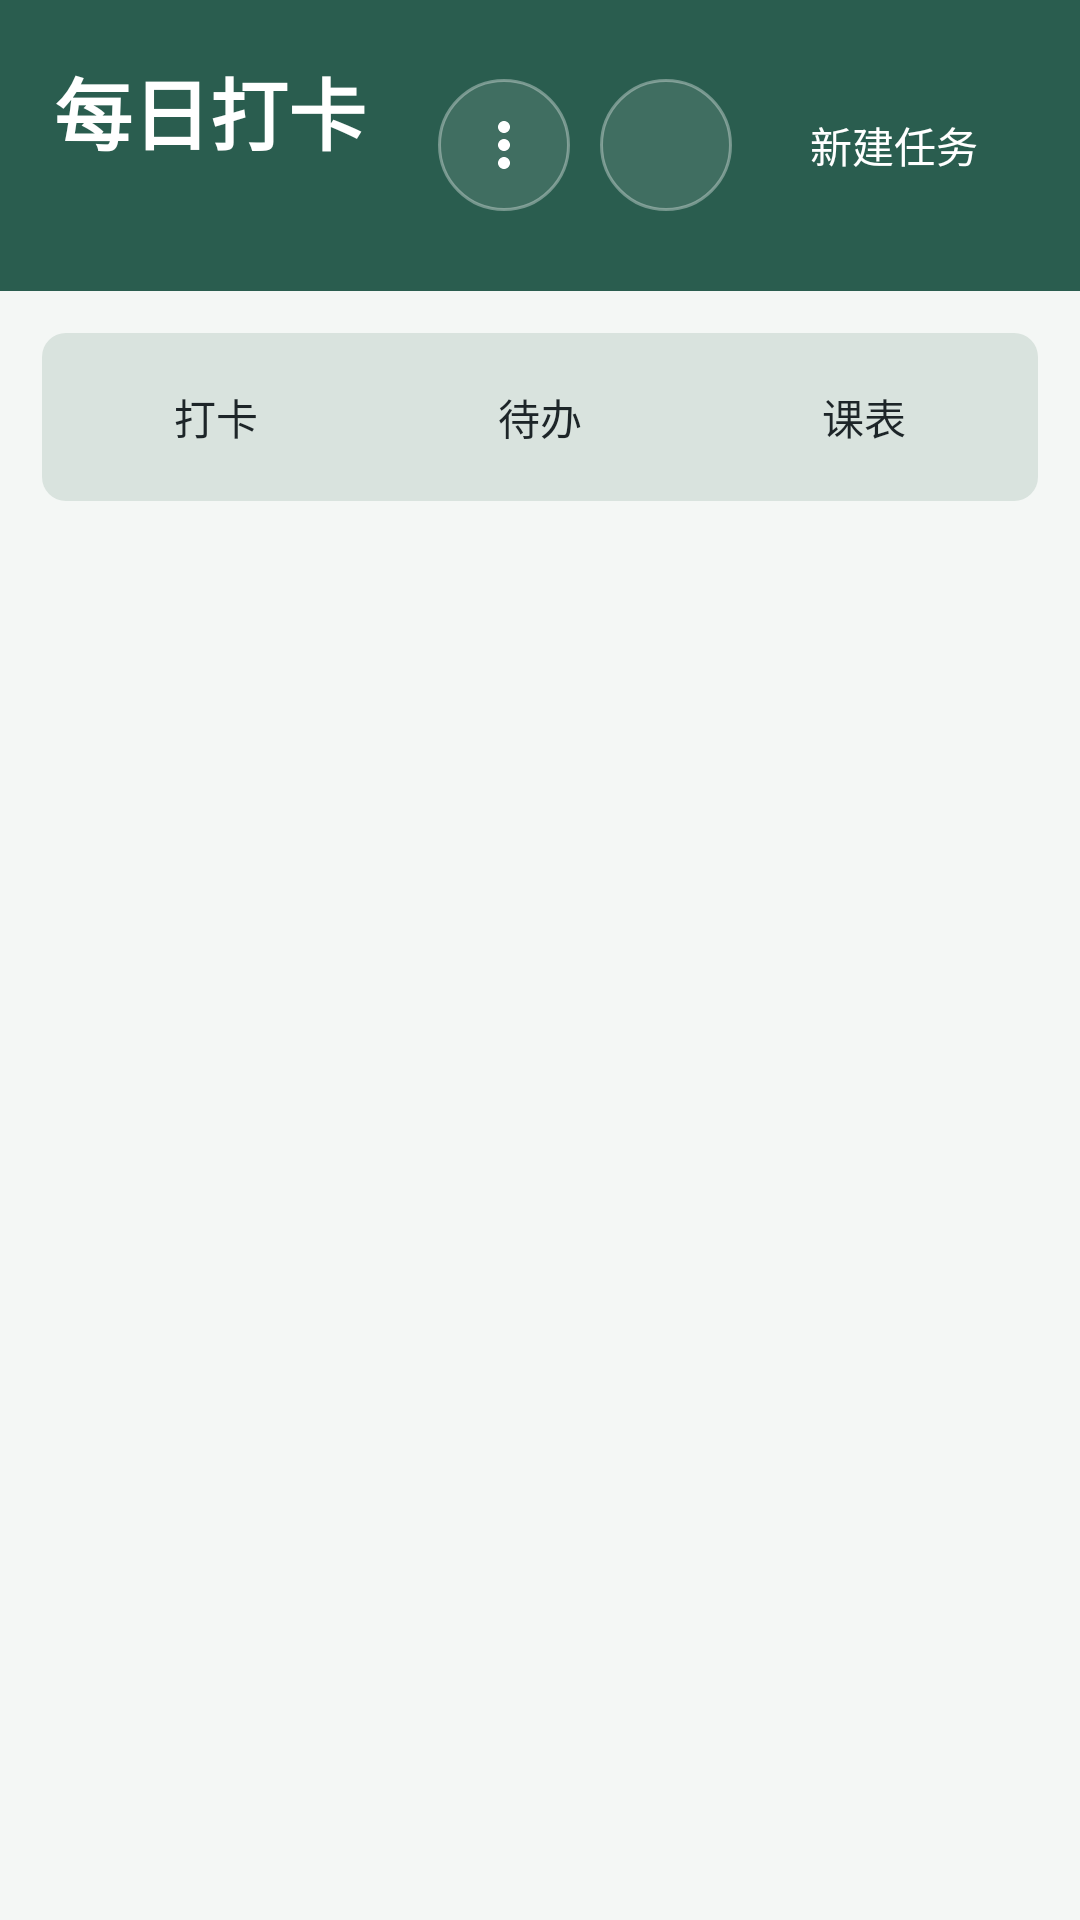

Where icons sit on this 1080 × 1920 app screen, as (x1, y1, x2, y2):
更多操作: (438, 79, 570, 211)
